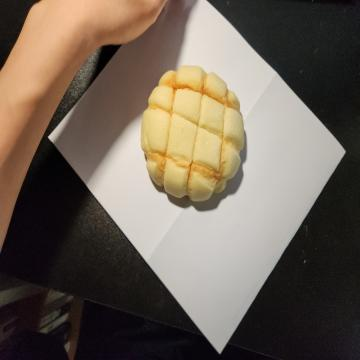melon_bread: (140, 66, 245, 202)
